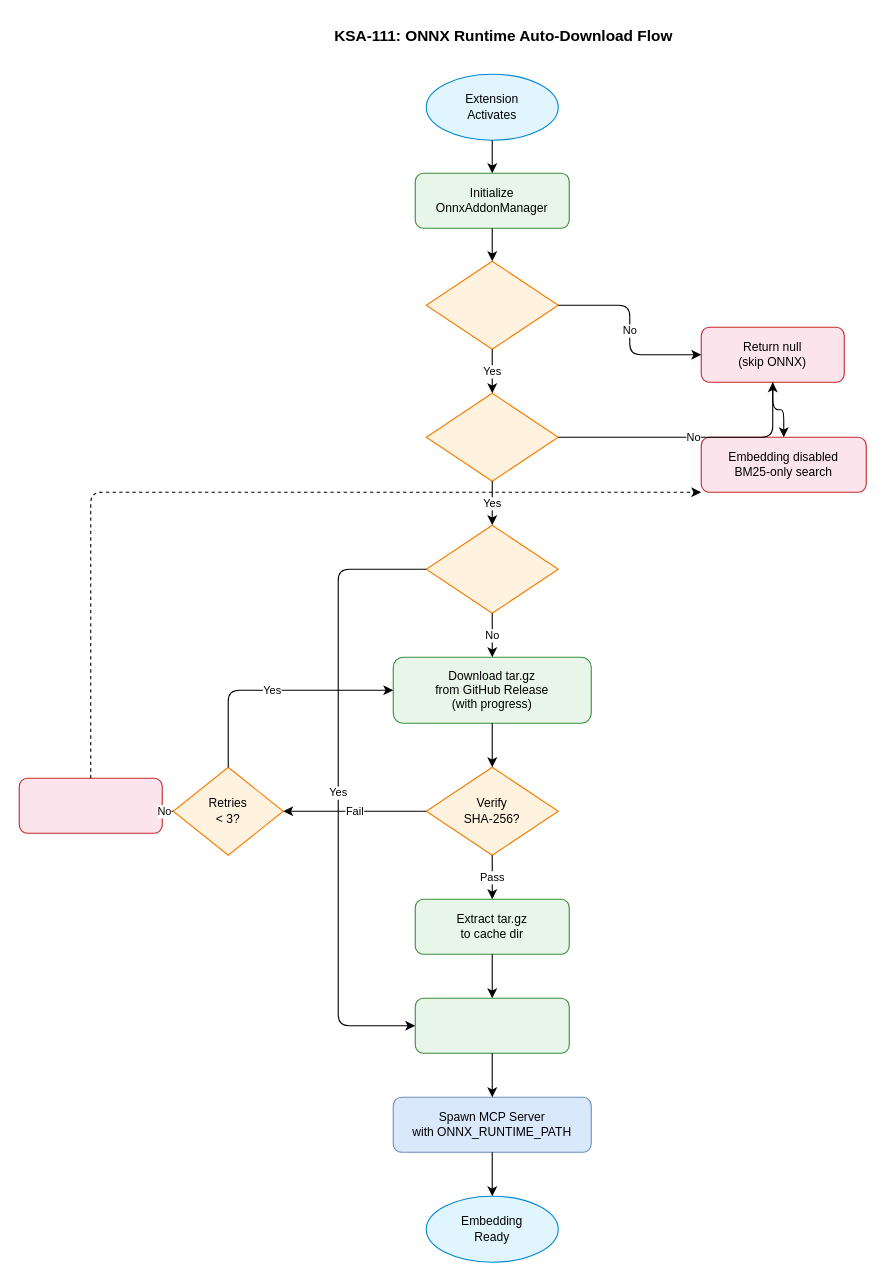
Some shapes in this 886 by 1282 pixel diagram are drawn without their labels. Each missing label, with the centre of its shape:
"Binary cached?" goes at (x=491, y=568).
"Manifest exists?" goes at (x=491, y=304).
"Platform supported?" goes at (x=491, y=436).
"Return ONNX Runtime path" goes at (x=491, y=1025).
"Show warning (Retry / Manual)" goes at (x=90, y=805).
